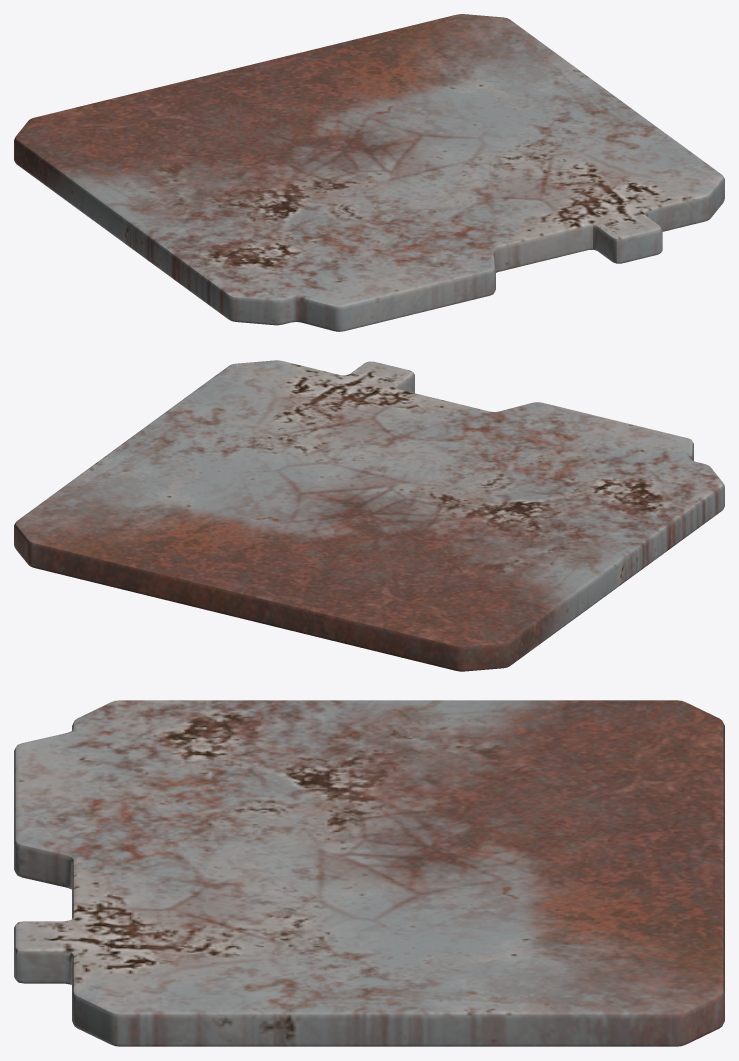
File: metal scrap.glb
The picture shows the model from 3 angles, top to bottom: view 1: azimuth 30°, elevation 25°; view 2: azimuth 150°, elevation 25°; view 3: azimuth 270°, elevation 25°; orthographic projection. The views are drawn at different scales.
Parts seen in each view (by area): view 1: Object_2; view 2: Object_2; view 3: Object_2.
Boxes of the visible parts, bbox=[...] form: Object_2: bbox=[14, 14, 724, 331]; Object_2: bbox=[14, 360, 724, 671]; Object_2: bbox=[14, 700, 724, 1046].
Bounding box in the file's own units: 153 × 8 × 145.
1 material, 1 textured.
